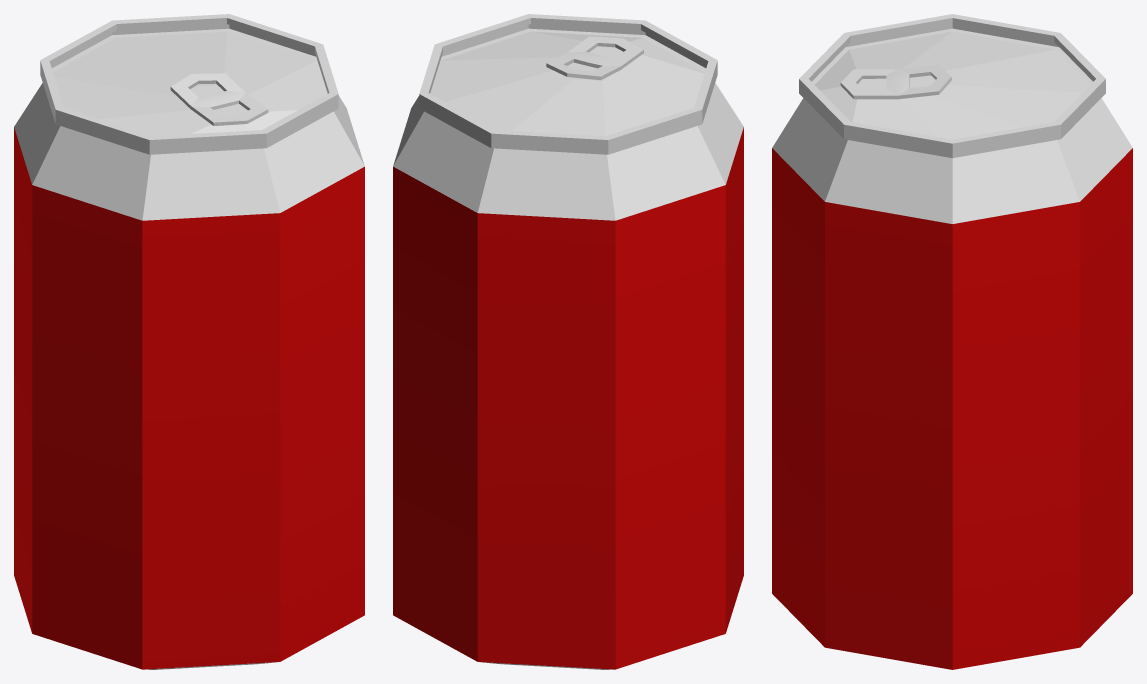
Rendered from RedCan.fbx.
3 renders of one model, left to right at view 1: azimuth 30°, elevation 25°; view 2: azimuth 150°, elevation 25°; view 3: azimuth 270°, elevation 25°, orthographic.
Visible parts, largest first — view 1: Cola_Can1, Cola_Can; view 2: Cola_Can1, Cola_Can; view 3: Cola_Can1, Cola_Can.
Part boxes in pixels (<box>): Cola_Can1: <box>14,14,364,669</box>; Cola_Can: <box>170,73,268,125</box>; Cola_Can1: <box>393,14,743,669</box>; Cola_Can: <box>546,36,643,80</box>; Cola_Can1: <box>772,14,1132,669</box>; Cola_Can: <box>840,65,951,99</box>.
Size of the model in its own units: 1.02 by 1.67 by 1.02.
